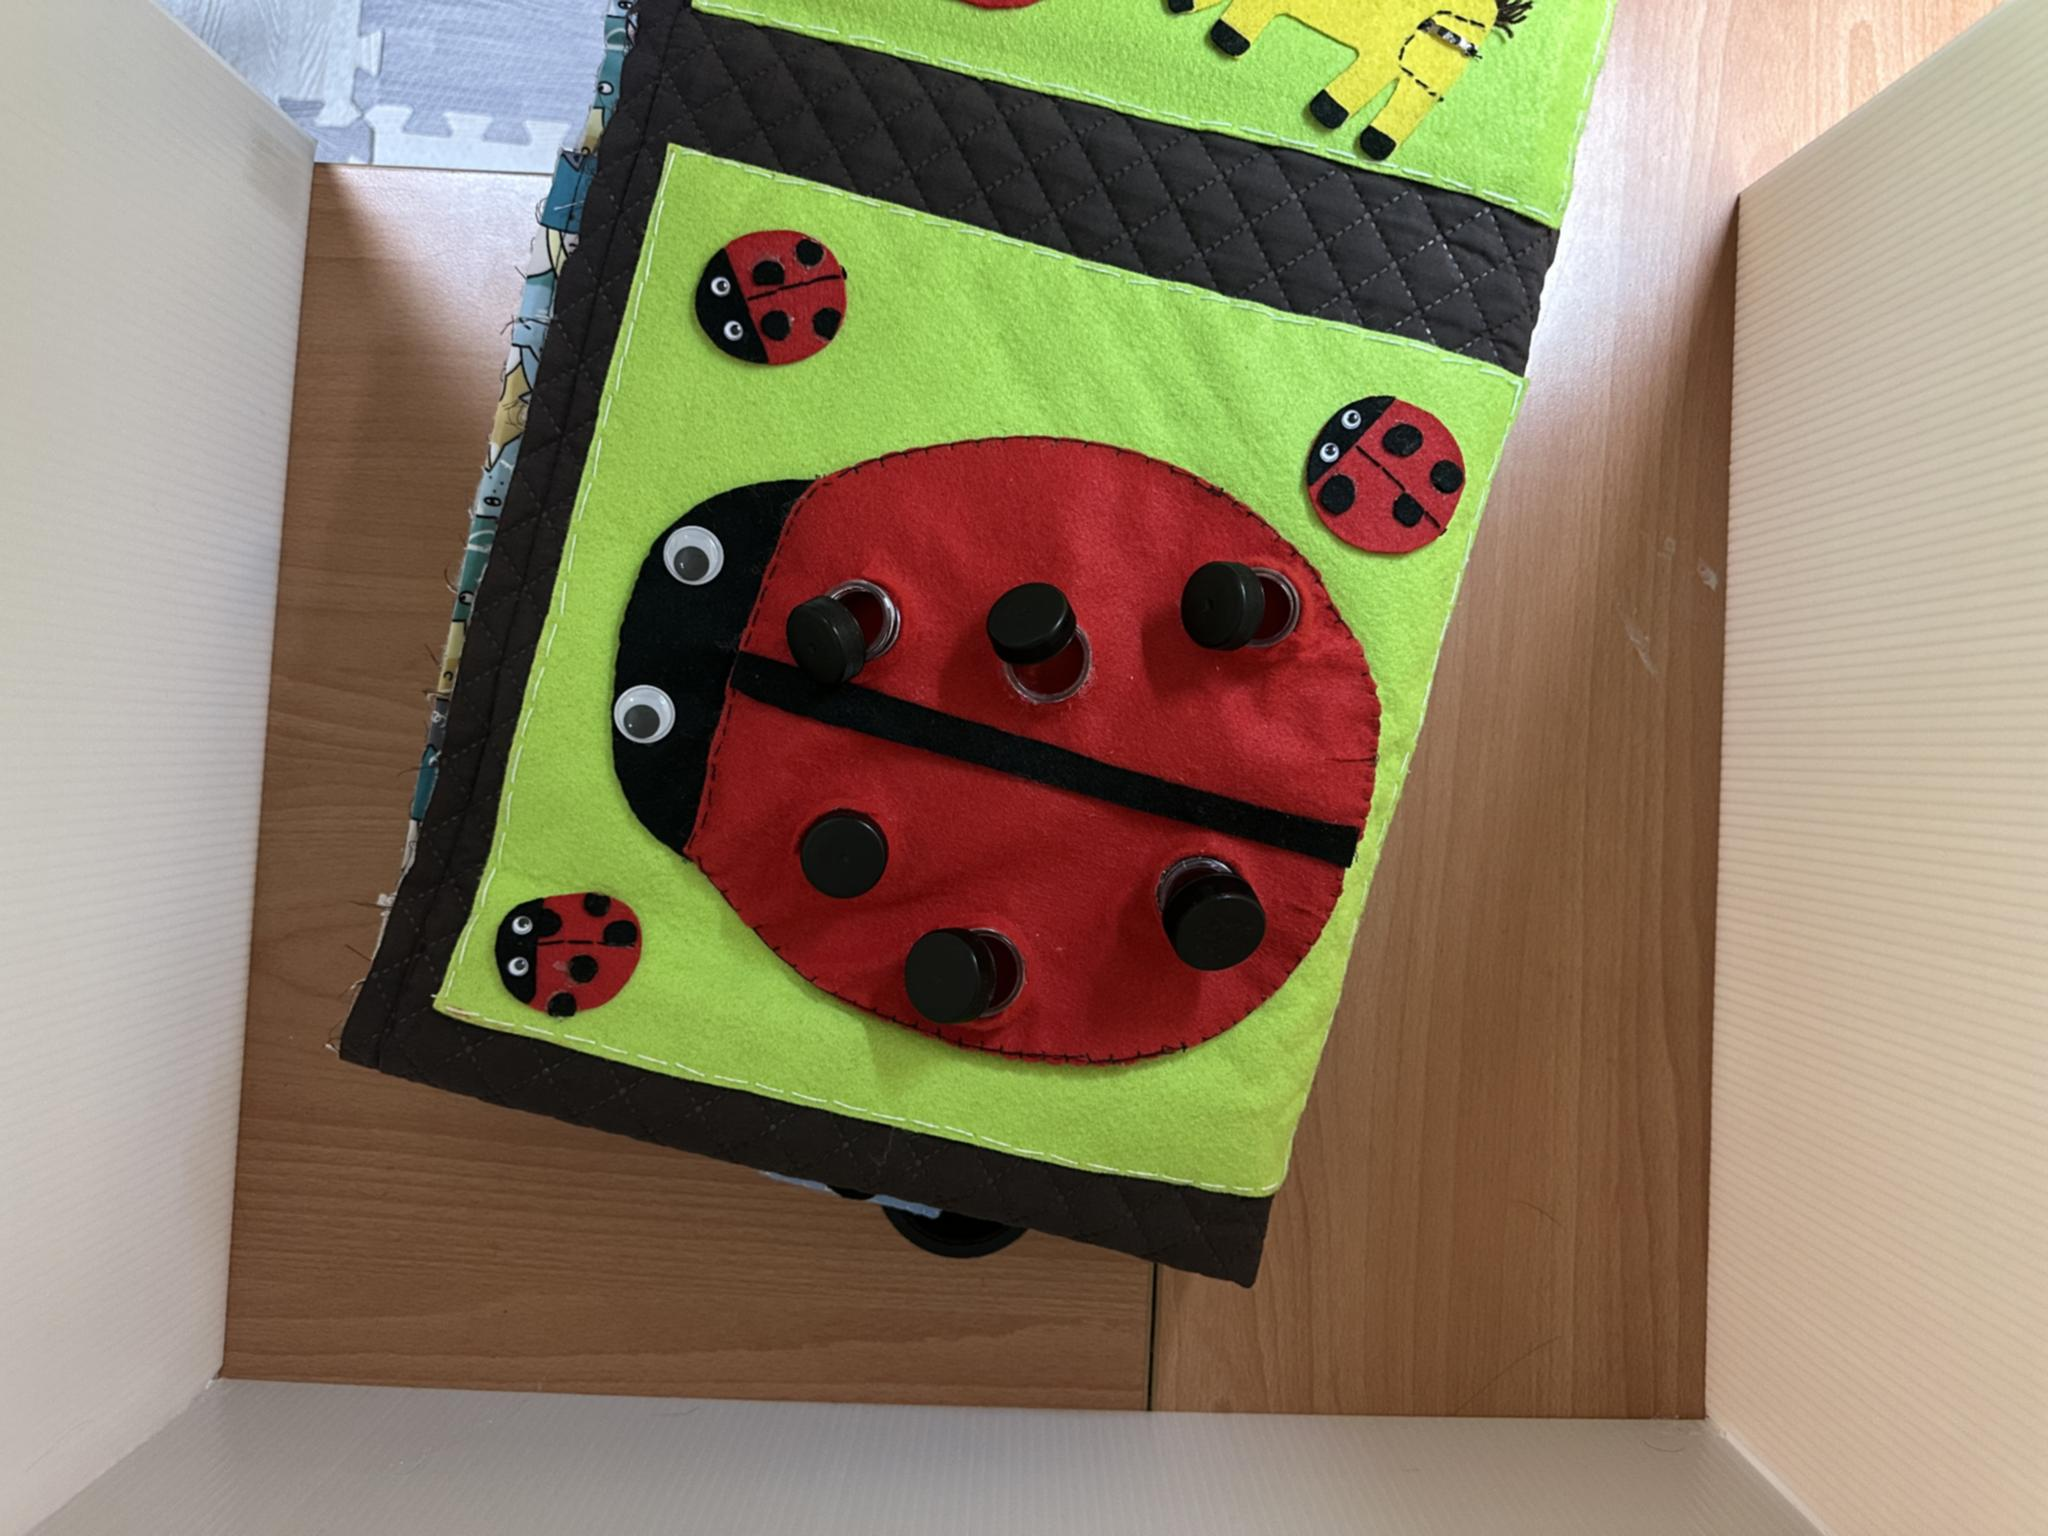cap_ng: (1118, 824, 1298, 986), (963, 561, 1126, 734), (1153, 523, 1335, 676), (892, 895, 1063, 1047), (774, 558, 929, 712)
cap_ok: (769, 773, 926, 925)
